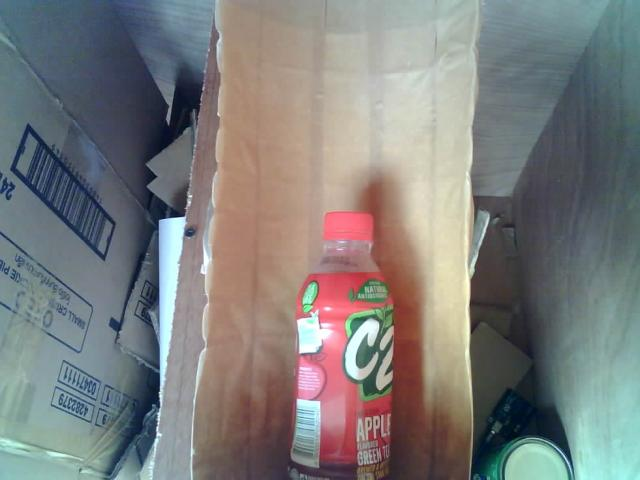small_bottle: (267, 196, 426, 480)
